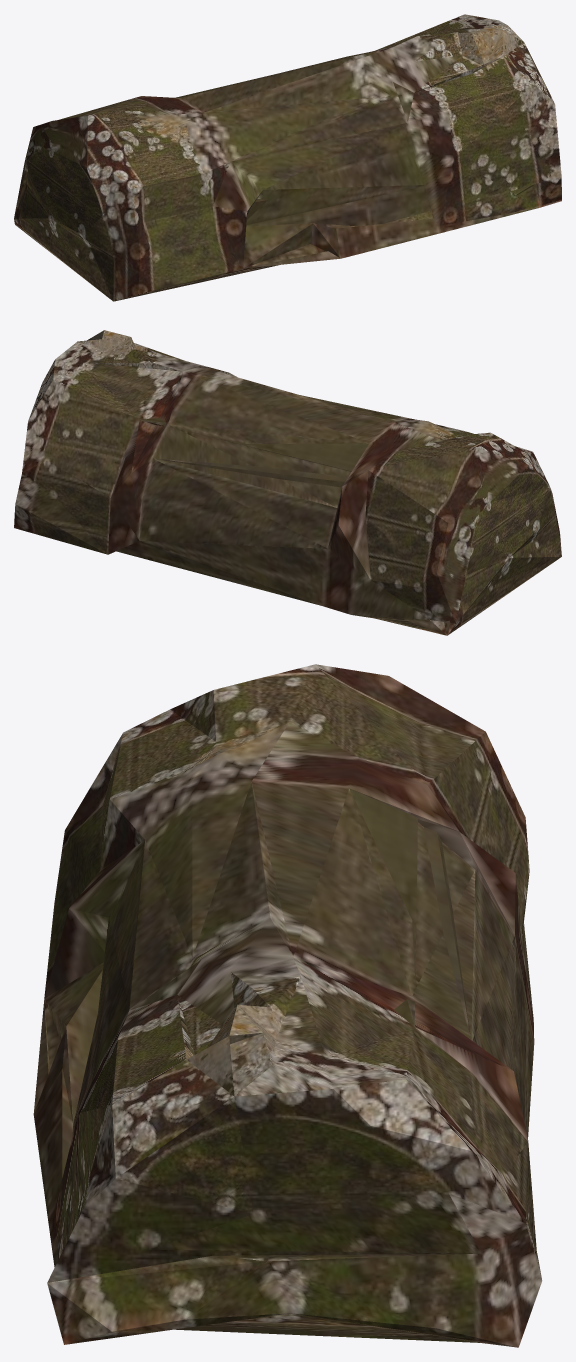
File: cofre_tapa.fbx
The picture shows the model from 3 angles, top to bottom: view 1: azimuth 30°, elevation 25°; view 2: azimuth 150°, elevation 25°; view 3: azimuth 270°, elevation 25°; orthographic projection. The views are drawn at different scales.
Visible parts, largest first — view 1: cofre_tapa; view 2: cofre_tapa; view 3: cofre_tapa.
Boxes of the visible parts, x1,y1,x2,y2 form: cofre_tapa: [14, 14, 561, 301]; cofre_tapa: [14, 330, 561, 635]; cofre_tapa: [33, 664, 542, 1347].
Size of the model in its own units: 1.26 by 0.414 by 0.6146.
Materials: 1 (1 with a texture image).
